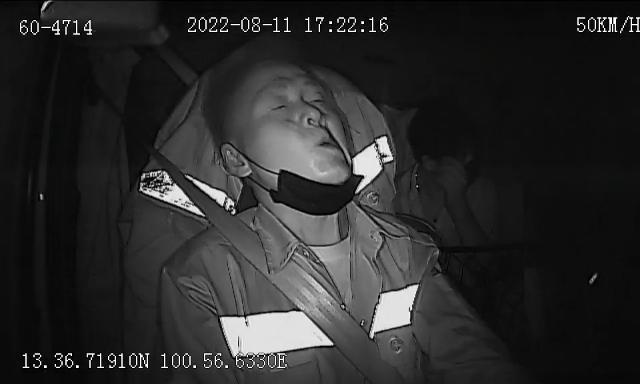Seatbelt: (146, 137, 414, 384)
